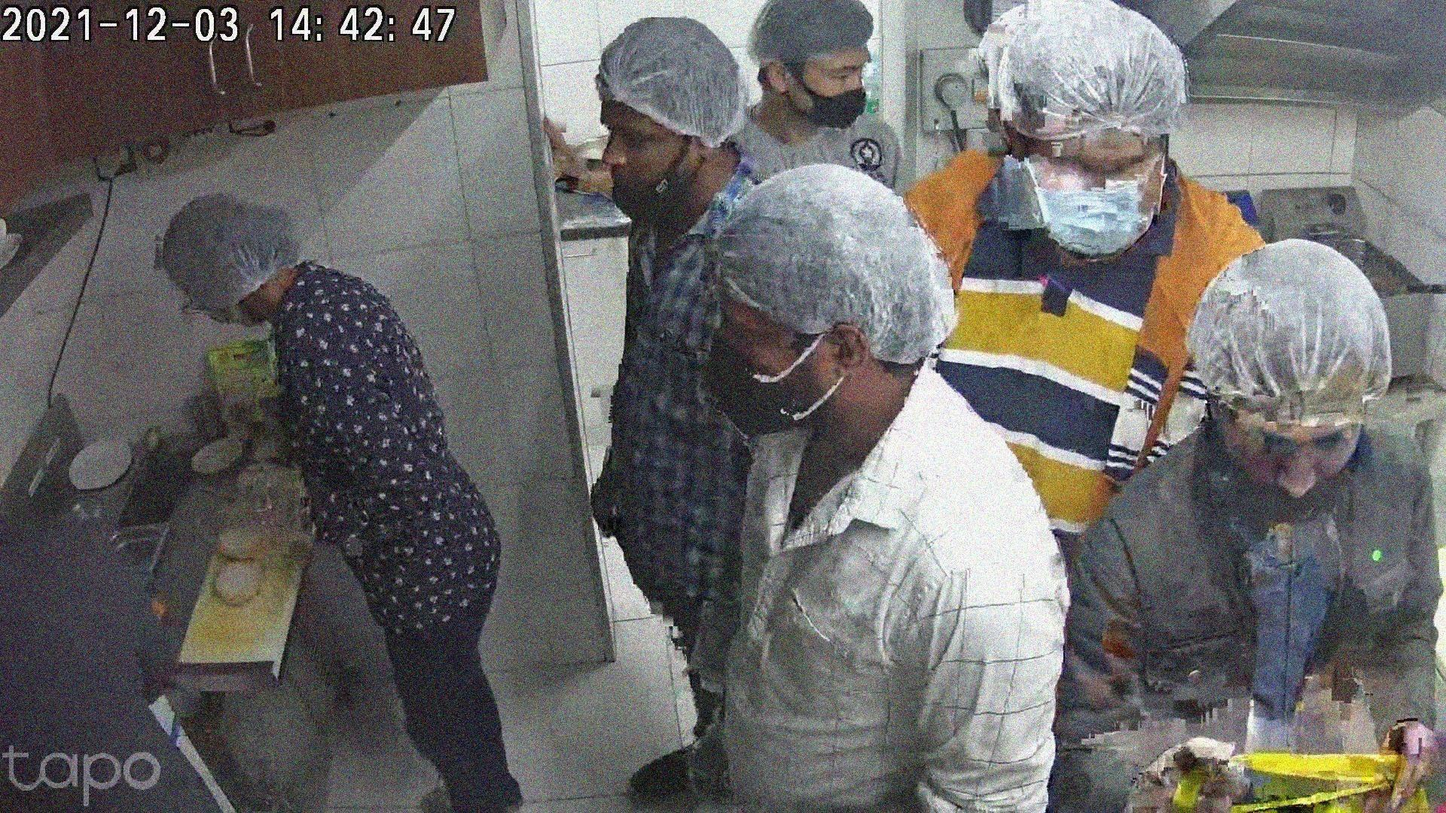gloves: (696, 166, 972, 374), (1178, 231, 1431, 421), (959, 6, 1200, 170), (134, 169, 334, 306), (573, 11, 749, 161), (739, 1, 892, 87)
mask: (700, 312, 836, 447), (1014, 140, 1158, 256), (790, 55, 866, 130)
no_hairnet: (1228, 407, 1368, 522), (595, 95, 688, 193)
